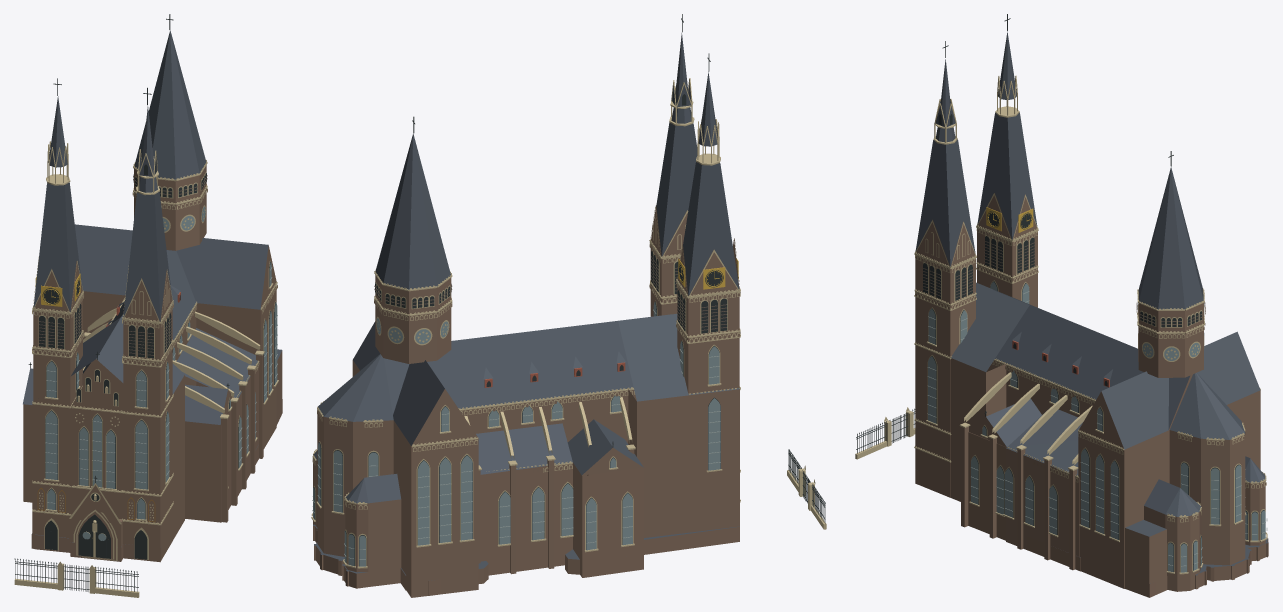
Rendered from posthoornkerk.glb.
3 renders of one model, left to right at view 1: azimuth 30°, elevation 25°; view 2: azimuth 150°, elevation 25°; view 3: azimuth 270°, elevation 25°, orthographic. The views are drawn at different scales.
Visible parts, largest first — view 1: posthoornkerk; view 2: posthoornkerk; view 3: posthoornkerk.
Part boxes in pixels (x1=…): posthoornkerk: x1=14, y1=14, x2=282, y2=597; posthoornkerk: x1=311, y1=14, x2=826, y2=597; posthoornkerk: x1=855, y1=14, x2=1268, y2=597.
Size of the model in its own units: 54.6 by 63.99 by 54.03.
